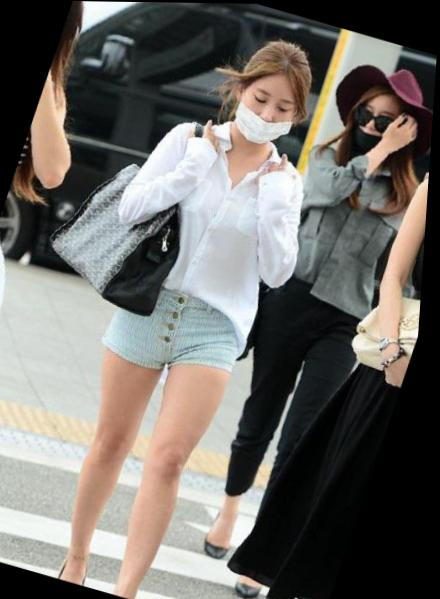WRONG: (231, 83, 307, 147), (348, 91, 412, 164)
